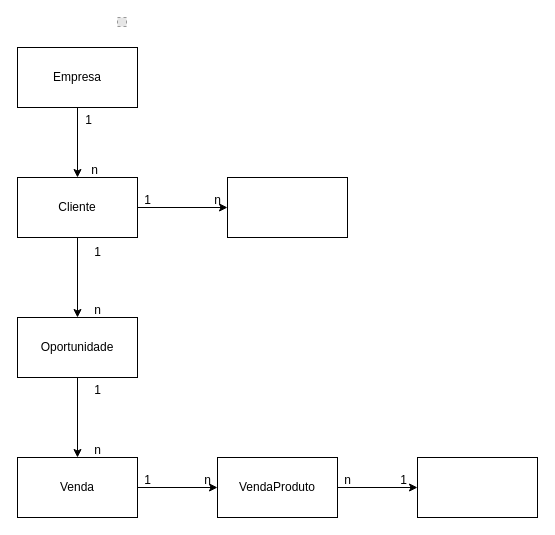
This 555x535 diagram has some shape labels left out. Grey dashed boxes stand in for pictures. Here are the shapes that lost their labels. From the top down, the box of each, then its label:
(226, 176, 348, 238): Contato
(416, 456, 538, 518): Produto
